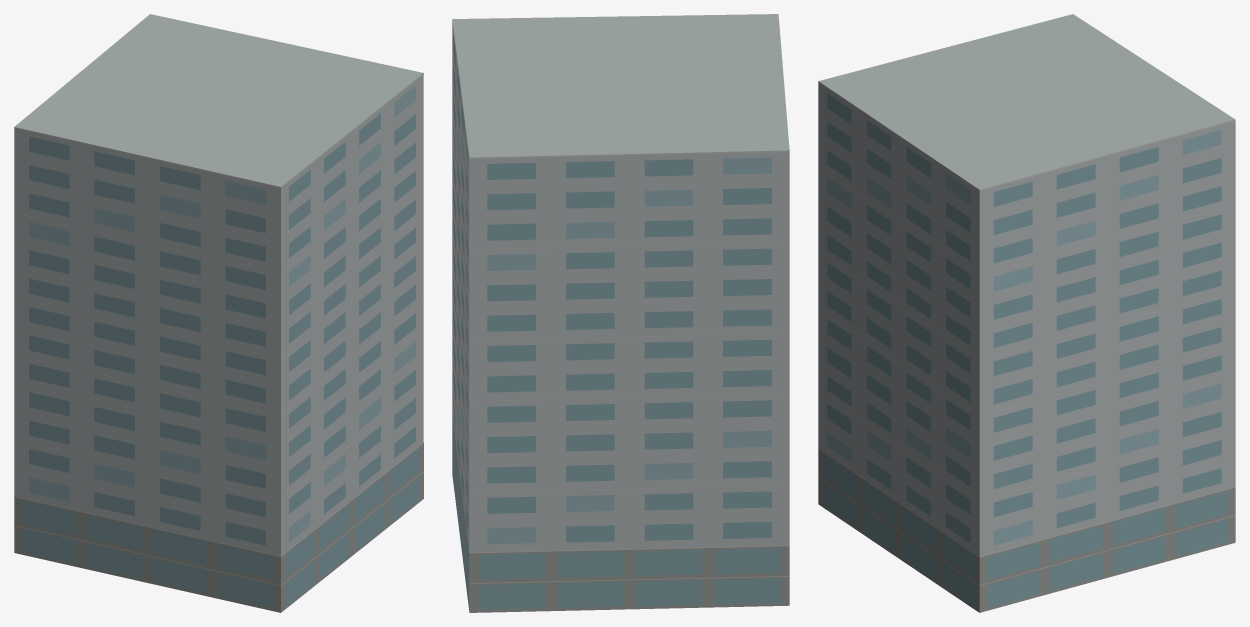
Rendered from survey-upis-32769747.glb.
3 views of the same model, side by side, from view 1: azimuth 30°, elevation 25°; view 2: azimuth 150°, elevation 25°; view 3: azimuth 270°, elevation 25° (orthographic). The views are drawn at different scales.
Parts seen in each view (by area): view 1: survey-upis-32769747.tmp; view 2: survey-upis-32769747.tmp; view 3: survey-upis-32769747.tmp.
Boxes of the visible parts, bbox=[...] form: survey-upis-32769747.tmp: bbox=[14, 14, 423, 612]; survey-upis-32769747.tmp: bbox=[452, 14, 789, 612]; survey-upis-32769747.tmp: bbox=[818, 14, 1235, 612].
Bounding box in the file's own units: 56.59 × 63.5 × 56.76.
